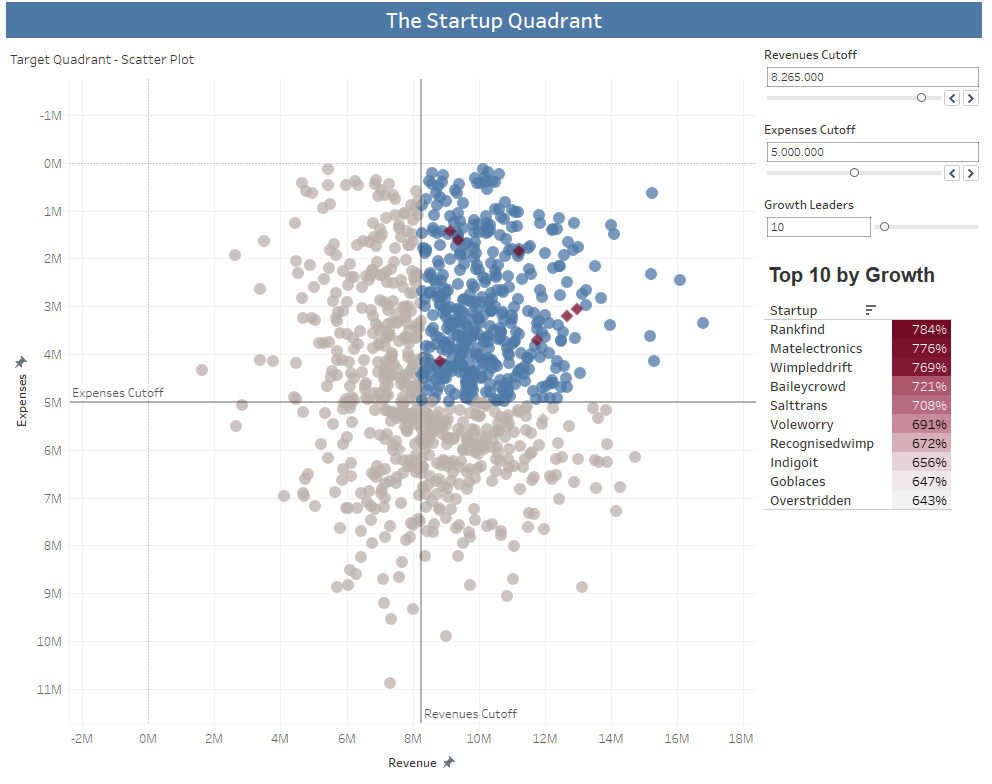

The page's visual inventory and layout, read from the dashboard file:
{"tool":"tableau","page":{"name":"The Startup Quadrant","canvas":[1000,800],"ordinal":0},"visuals":[{"type":"text","box":[8,8,984,44]},{"type":"worksheet","title":"Target Quadrant - Scatter Plot","mark":"Automatic","rows":["2015 Expenses"],"cols":["2015 Revenue"],"box":[8,52,758,740]},{"type":"parameter","param":"[Parameters].[Parâmetro 2]","box":[766,52,226,75]},{"type":"parameter","param":"[Parameters].[Parâmetro 3]","box":[766,127,226,75]},{"type":"parameter","param":"[Parameters].[Parâmetro 1]","box":[766,202,226,64]},{"type":"worksheet","title":"Growth","mark":"Square","rows":["Name"],"box":[766,266,226,526]}]}

Visuals, with their boxes in screenshot pixels (x1, y1, x2, y2), scaled from the page's 1000x800 canvas onto the 992x784 screenshot:
text: x1=8 y1=8 x2=984 y2=51
"Target Quadrant - Scatter Plot" worksheet: x1=8 y1=51 x2=760 y2=776
parameter: x1=760 y1=51 x2=984 y2=124
parameter: x1=760 y1=124 x2=984 y2=198
parameter: x1=760 y1=198 x2=984 y2=261
"Growth" worksheet (Square marks): x1=760 y1=261 x2=984 y2=776
